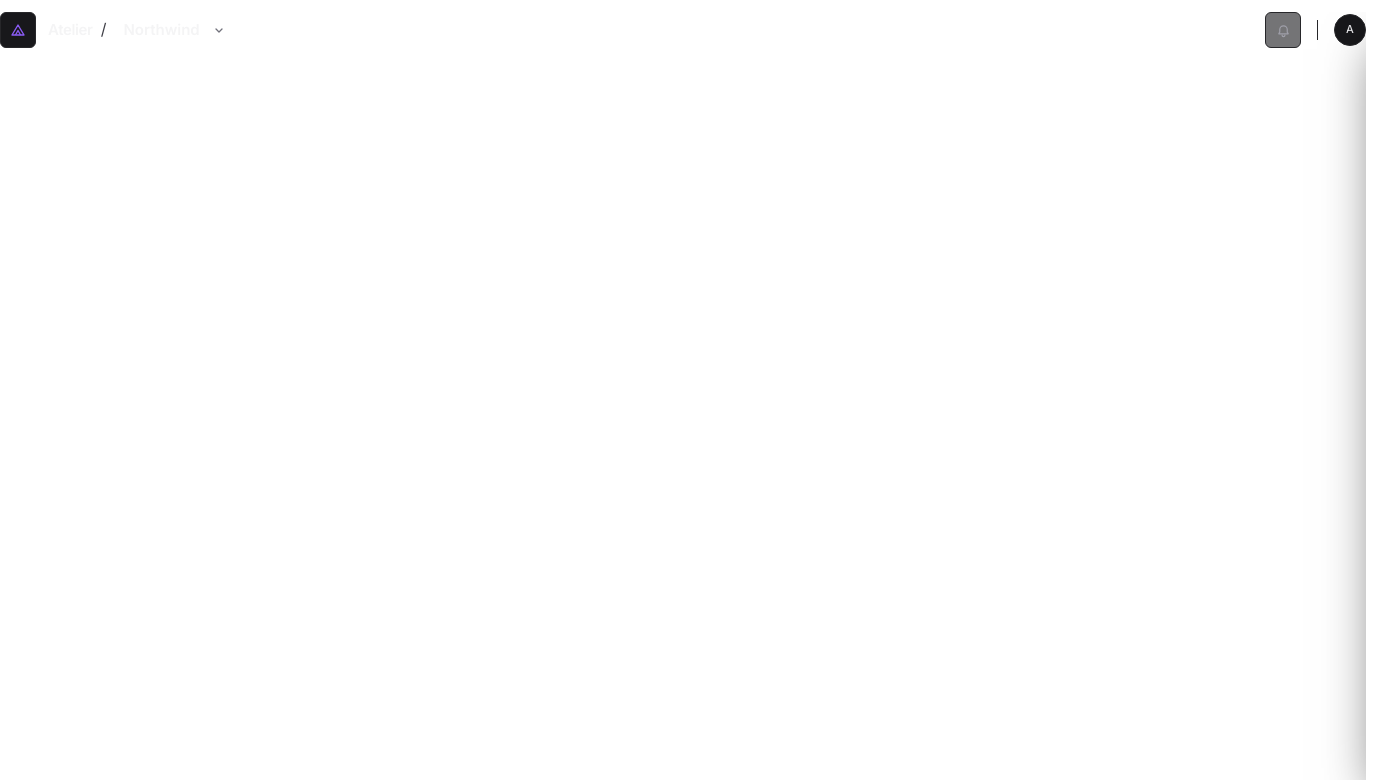
Test: BuilderHomeHeader › marks only the connected studio row with aria-current and shows a status dot
Click the button named "switch studio" at (219, 30), box left=208, top=21, right=230, bottom=39
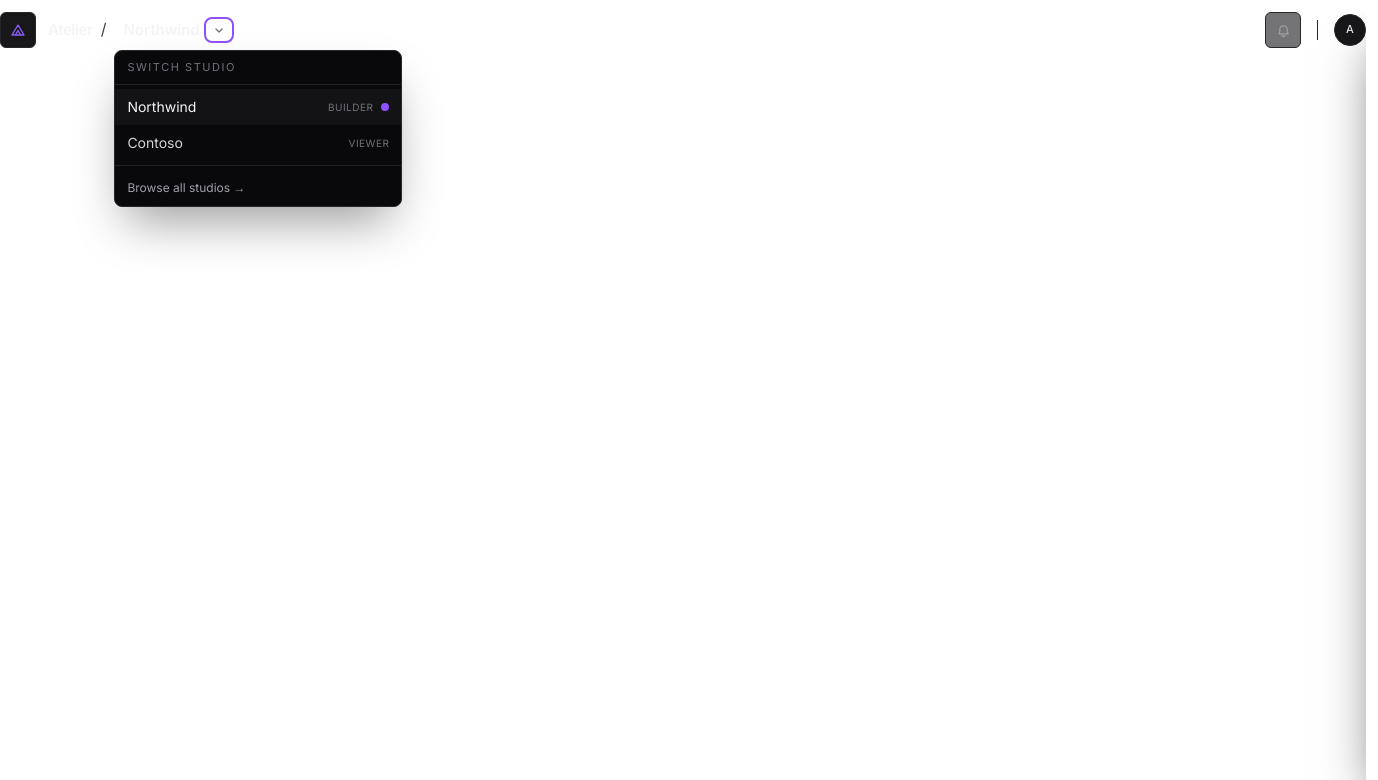
Now the text "Builder" is shown, box left=328, top=100, right=373, bottom=114
